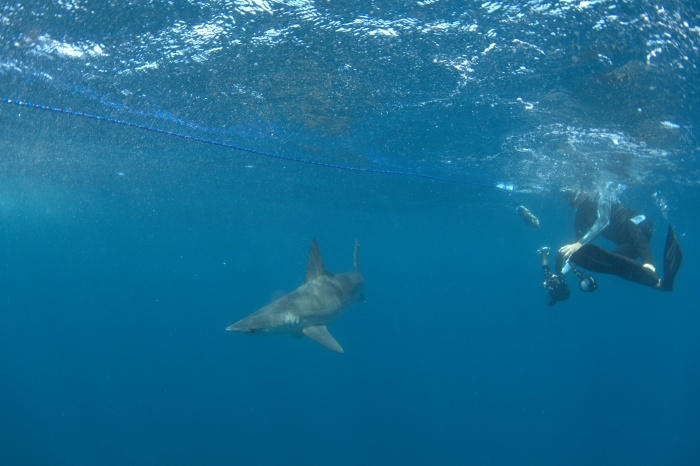Hammer: (197, 227, 410, 370)
